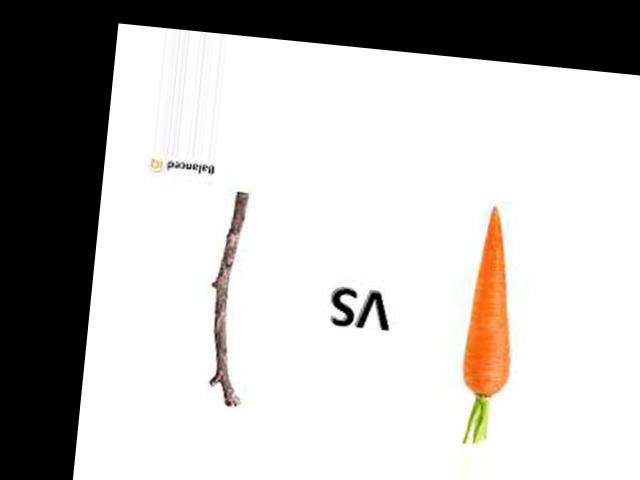carrot: (446, 198, 534, 404)
